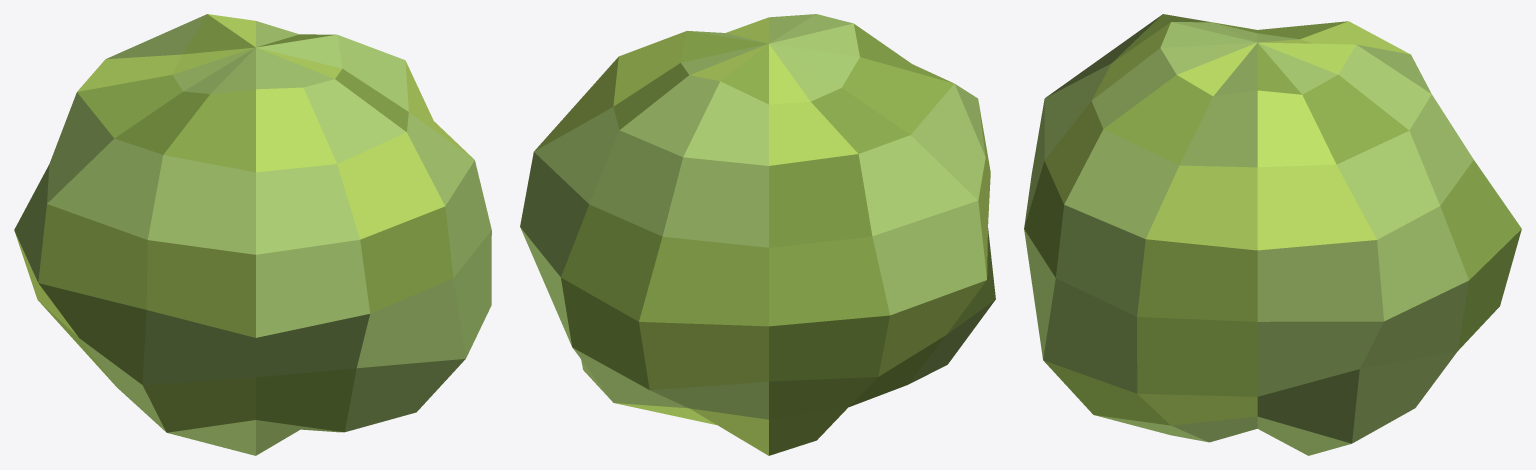
The model's file is bush.glb.
3 views of the same model, side by side, from view 1: azimuth 30°, elevation 25°; view 2: azimuth 150°, elevation 25°; view 3: azimuth 270°, elevation 25° (orthographic). The views are drawn at different scales.
Parts seen in each view (by area): view 1: bush; view 2: bush; view 3: bush.
Boxes of the visible parts, x1,y1,x2,y2 form: bush: (14,14,491,455); bush: (520,14,995,455); bush: (1024,14,1521,455).
Size of the model in its own units: 0.9309 by 0.8005 by 0.96.
